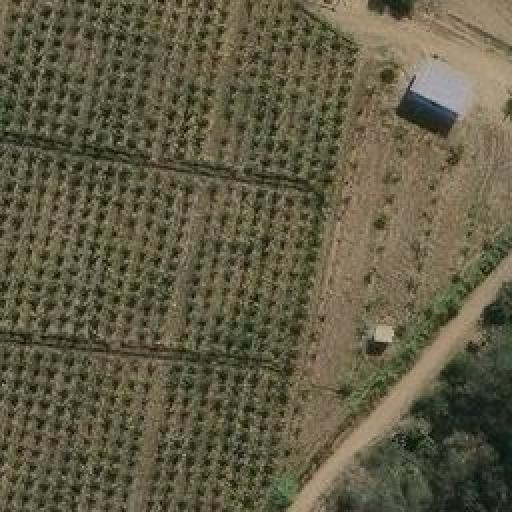manzanas: (399, 59, 487, 135)
